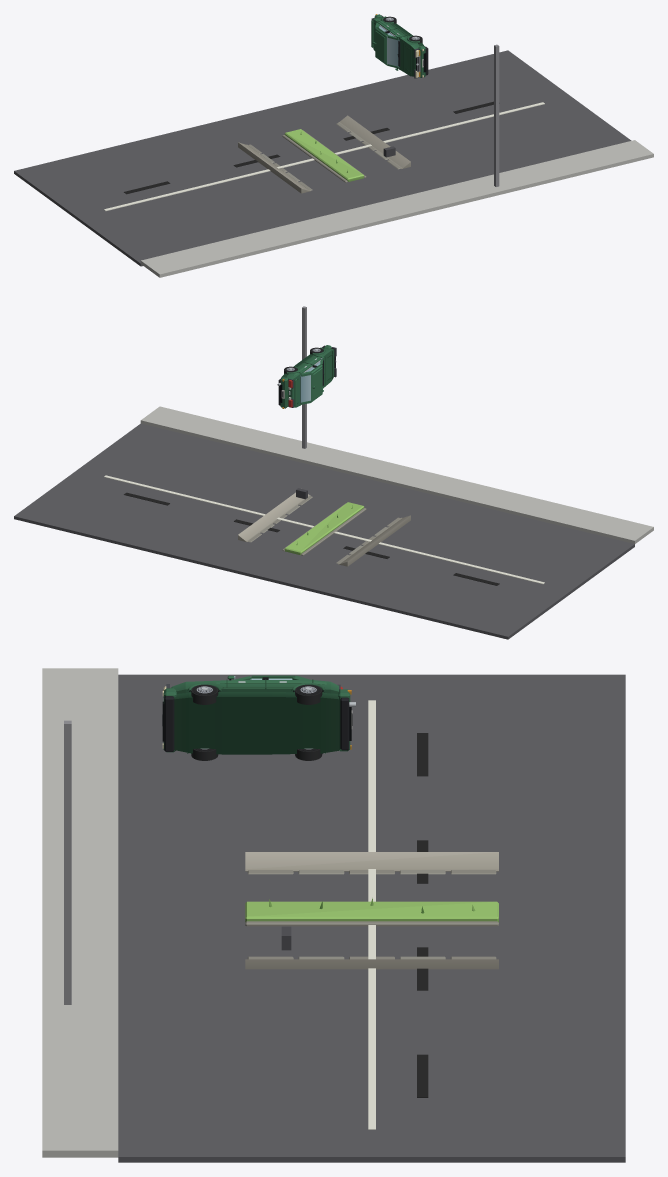
The model's file is trauma-008-roadside-mvc.glb.
3 renders of one model, top to bottom at view 1: azimuth 30°, elevation 25°; view 2: azimuth 150°, elevation 25°; view 3: azimuth 270°, elevation 25°, orthographic. The views are drawn at different scales.
Visible parts, largest first — view 1: RoadAsphalt, Sidewalk, road_avenue_straight_01, car_sedan_01, LaneMark_Center, StreetLampPole; view 2: RoadAsphalt, Sidewalk, road_avenue_straight_01, car_sedan_01, LaneMark_Center, StreetLampPole; view 3: RoadAsphalt, Sidewalk, road_avenue_straight_01, car_sedan_01, LaneMark_Center, StreetLampPole.
Boxes of the visible parts, bbox=[...] form: RoadAsphalt: bbox=[14, 50, 631, 266]; Sidewalk: bbox=[140, 140, 653, 277]; road_avenue_straight_01: bbox=[238, 115, 410, 193]; car_sedan_01: bbox=[371, 14, 428, 78]; LaneMark_Center: bbox=[104, 102, 544, 210]; StreetLampPole: bbox=[494, 44, 499, 186]; RoadAsphalt: bbox=[14, 423, 634, 639]; Sidewalk: bbox=[140, 406, 653, 543]; road_avenue_straight_01: bbox=[238, 492, 410, 566]; car_sedan_01: bbox=[277, 345, 336, 408]; LaneMark_Center: bbox=[104, 475, 544, 584]; StreetLampPole: bbox=[302, 306, 306, 448]; RoadAsphalt: bbox=[118, 674, 625, 1162]; Sidewalk: bbox=[42, 668, 118, 1157]; road_avenue_straight_01: bbox=[245, 852, 498, 969]; car_sedan_01: bbox=[162, 675, 355, 760]; LaneMark_Center: bbox=[368, 700, 375, 1129]; StreetLampPole: bbox=[64, 720, 71, 1004].
Size of the model in its own units: 18 by 5.26 by 9.2.
